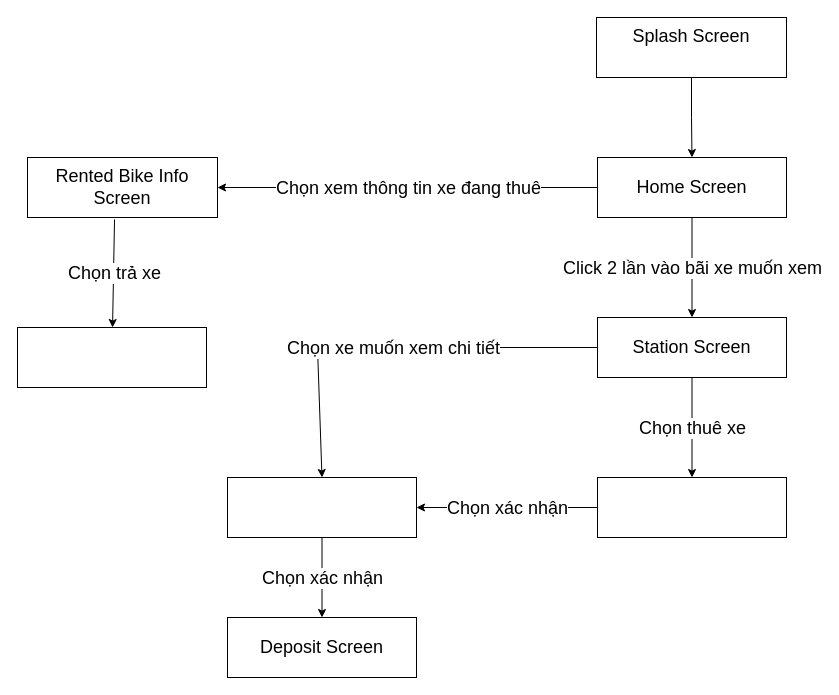
This 839x695 diagram has some shape labels left out. The shapes that lost their labels are listed below. From the top down, each one's centre as x and y in pixels, then its label:
At [111,357]: "Rented Bike Transaction Screen".
At [321,507]: "Bike Detail Screen".
At [691,507]: "Rented Bike Screen".
